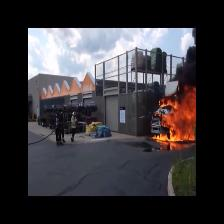fire: (157, 86, 198, 152)
smoke: (181, 57, 197, 81)
